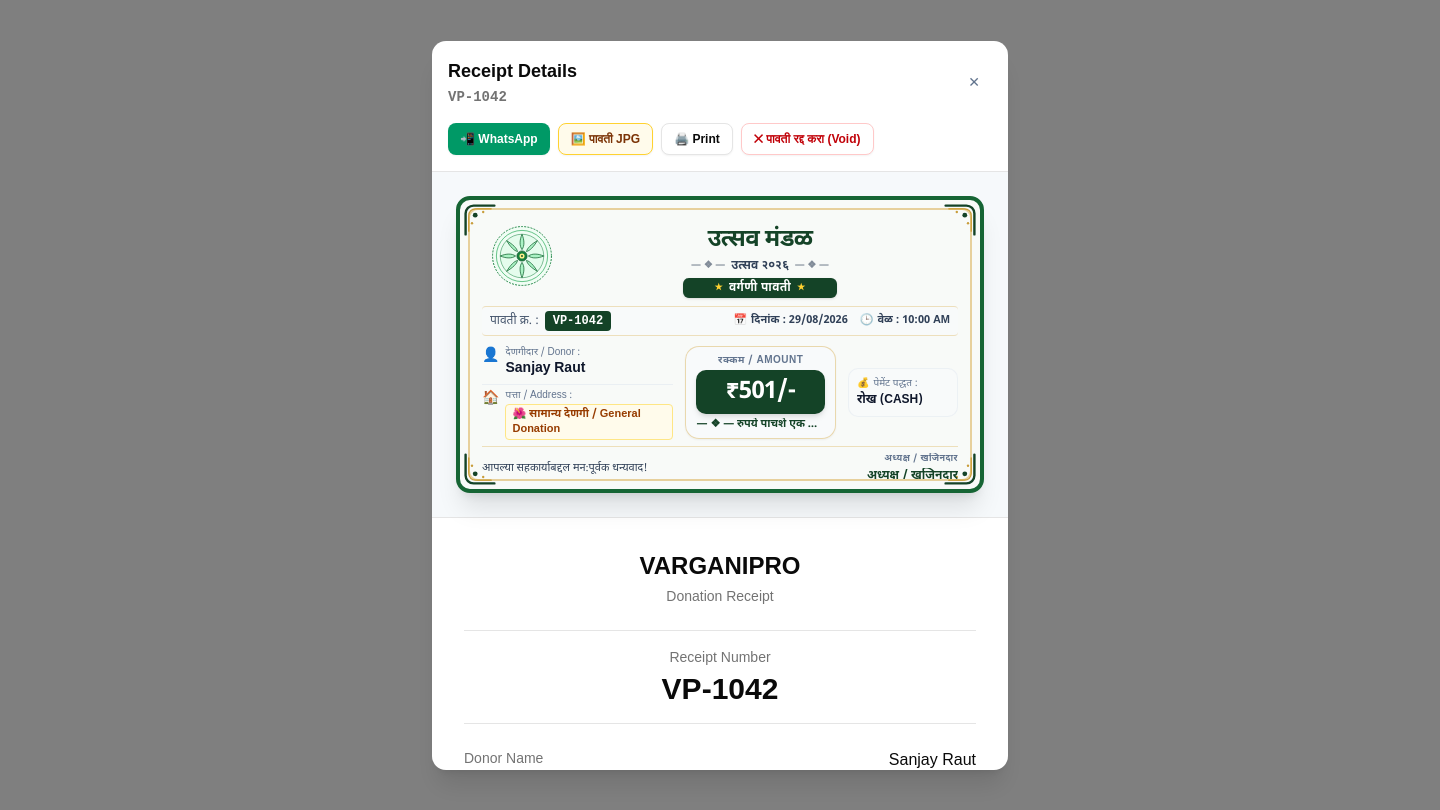
Test: ReceiptPreviewDialog › 3. opens confirmation dialog when Void button is clicked
Click the button "✕ पावती रद्द करा (Void)": (807, 138) [741,122,874,154]
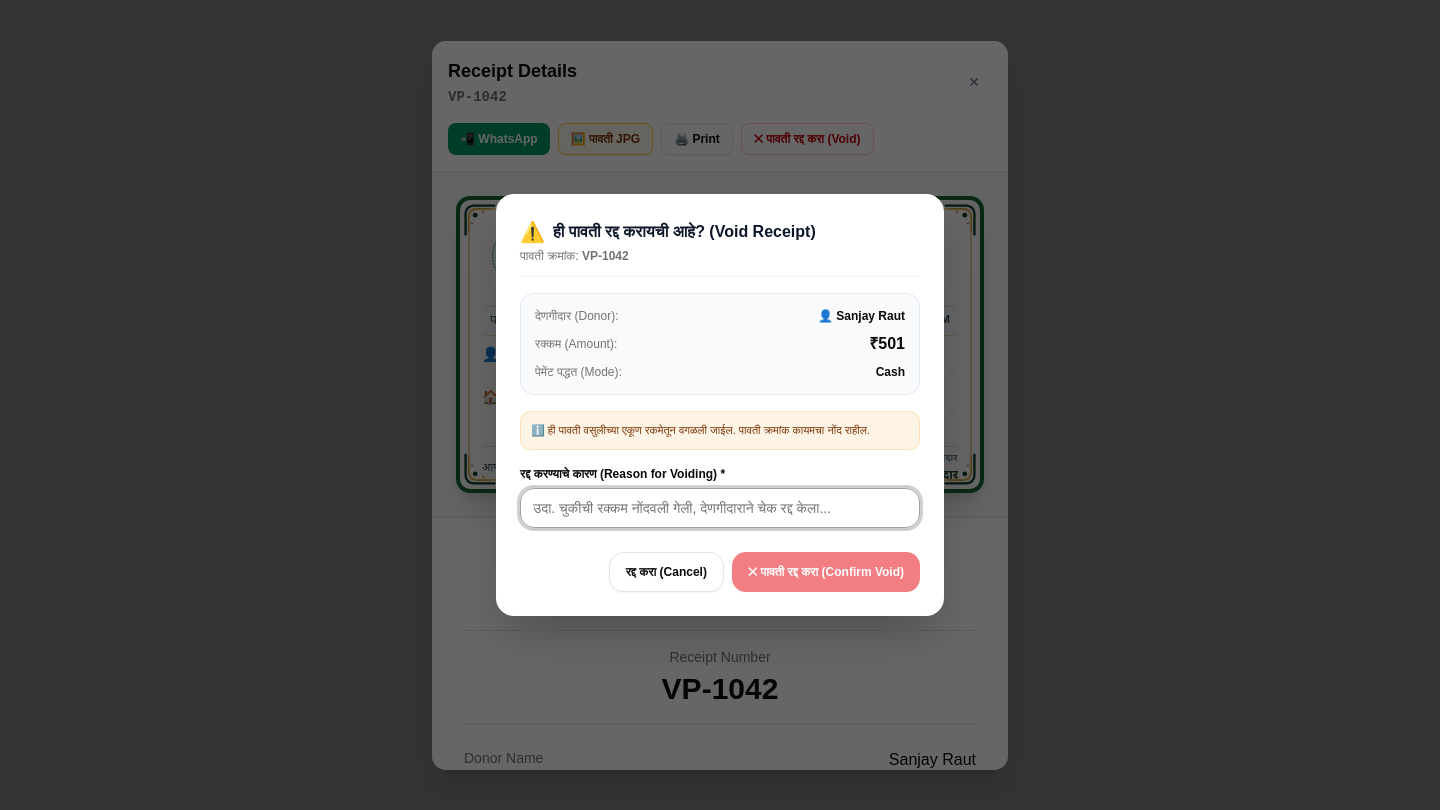
expect the heading "ही पावती रद्द करायची आहे? (Void Receipt)" is shown: met, box [553,220,816,244]
expect the text "ही पावती वसुलीच्या एकूण रकमेतून वगळली जाईल" is shown: met, box [531,424,870,436]
